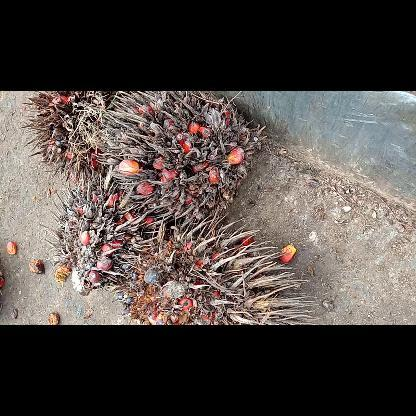Terlalu masak: (111, 208, 320, 324), (92, 91, 270, 225), (38, 166, 156, 300), (16, 91, 140, 195)
